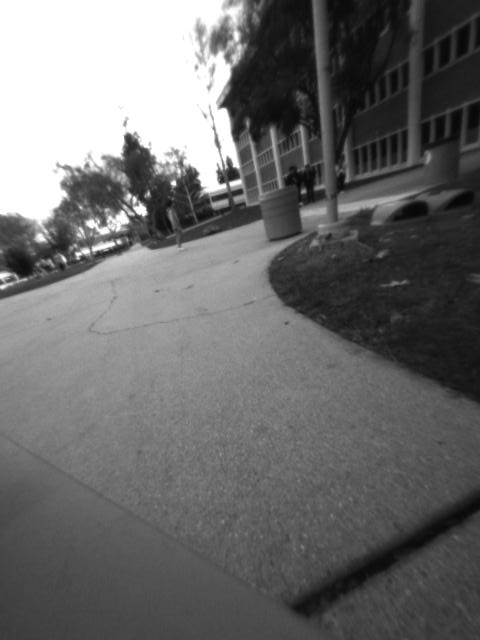trashcan: (418, 134, 466, 196), (257, 182, 306, 242)
